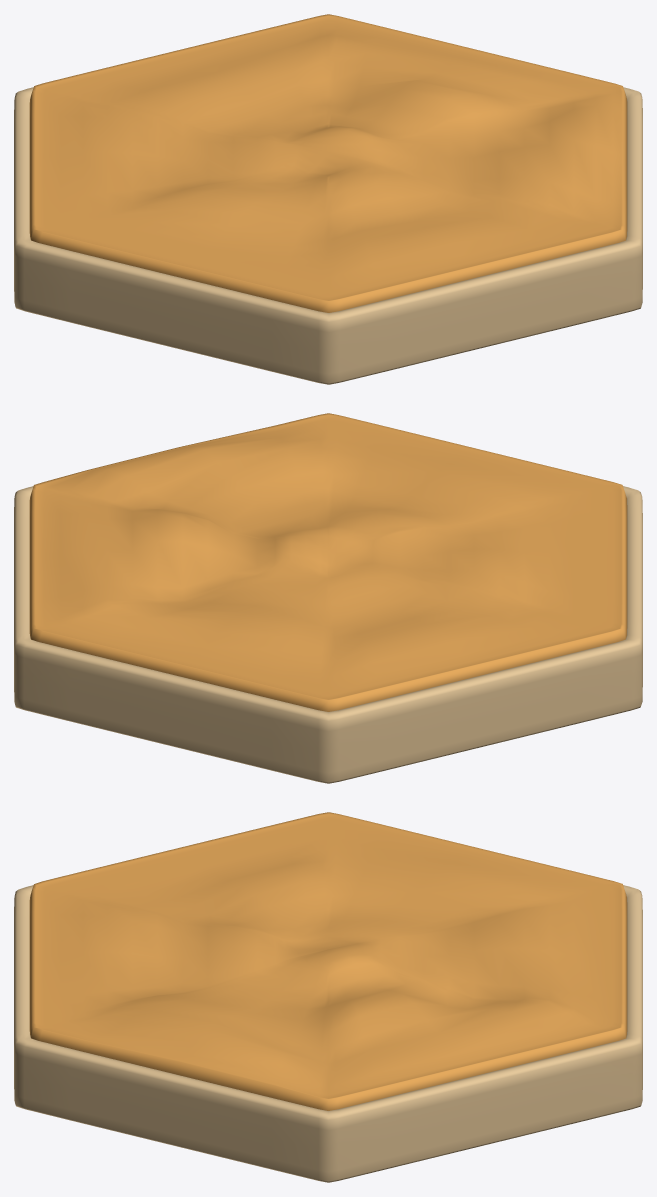
The model's file is Honey Tile.fbx.
3 views of the same model, one above another, from view 1: azimuth 30°, elevation 25°; view 2: azimuth 150°, elevation 25°; view 3: azimuth 270°, elevation 25° (orthographic).
Visible parts, largest first — view 1: Honey Top.001, Honey Tile; view 2: Honey Top.001, Honey Tile; view 3: Honey Top.001, Honey Tile.
Boxes of the visible parts, x1,y1,x2,y2 form: Honey Top.001: (29, 14, 627, 312); Honey Tile: (14, 87, 642, 384); Honey Top.001: (29, 413, 627, 711); Honey Tile: (14, 486, 642, 783); Honey Top.001: (29, 812, 627, 1110); Honey Tile: (14, 885, 642, 1182).
Bounding box in the file's own units: 99.54 × 14.01 × 86.6.
Materials: 1 (1 with a texture image).
